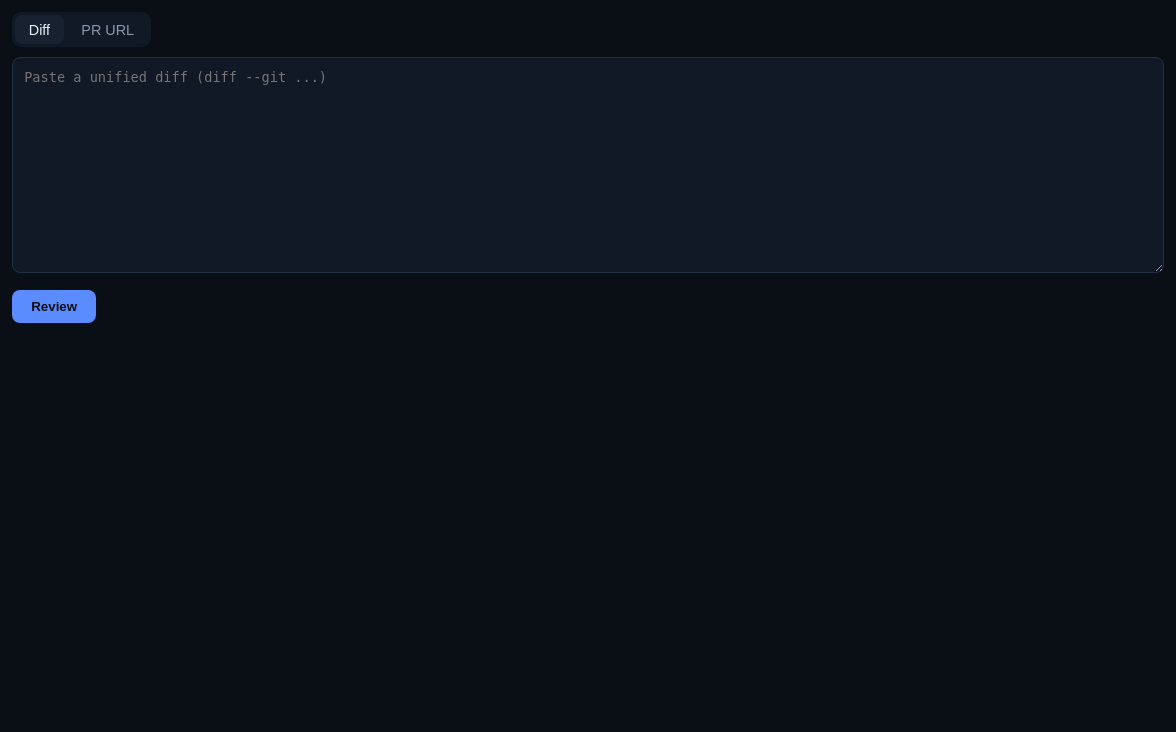
Test: renders findings after a successful review
Type "d" into the text box labelled "diff" at (588, 165), box 12,57 -> 1164,273
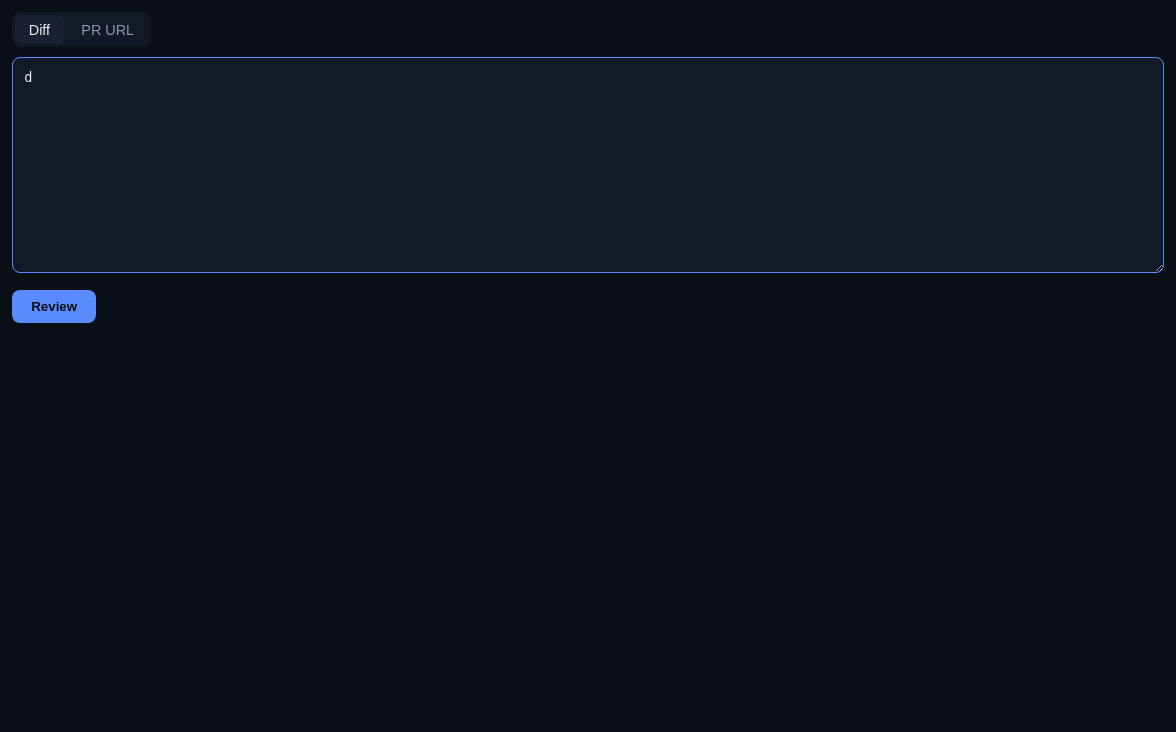
Click the button "Review" at (54, 306), box 12,290 -> 96,323
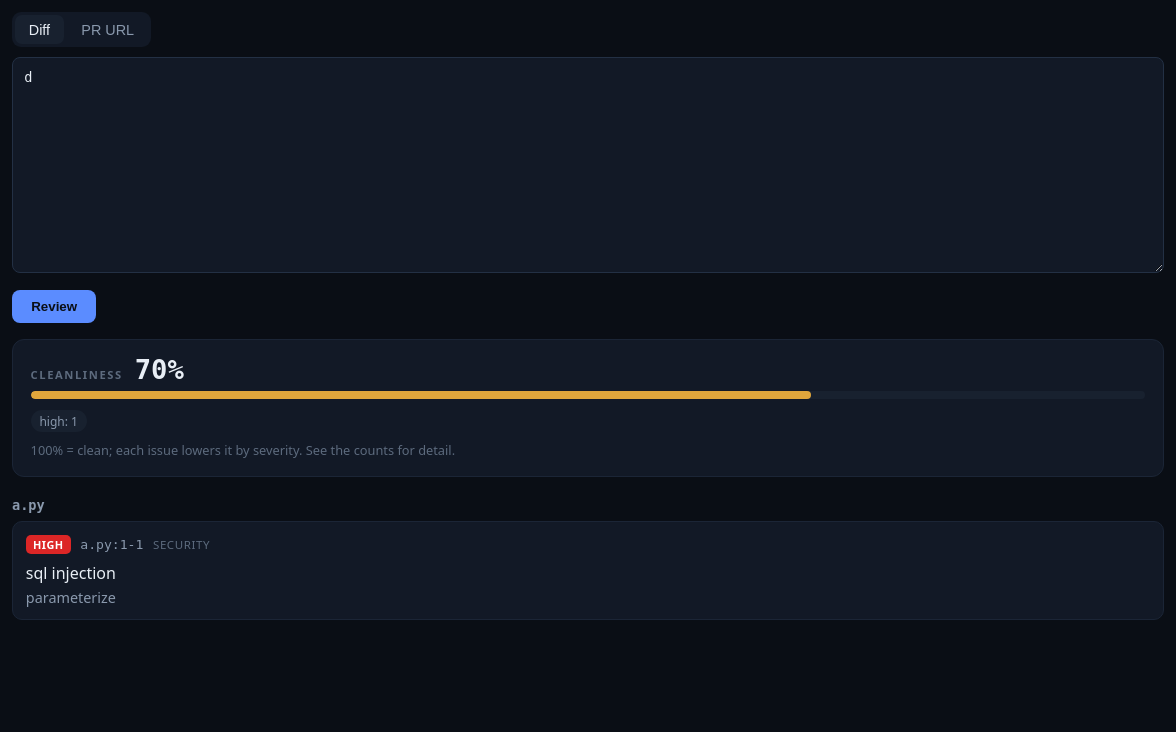
Expected: the text "sql injection" is shown, 26,562 -> 116,584
